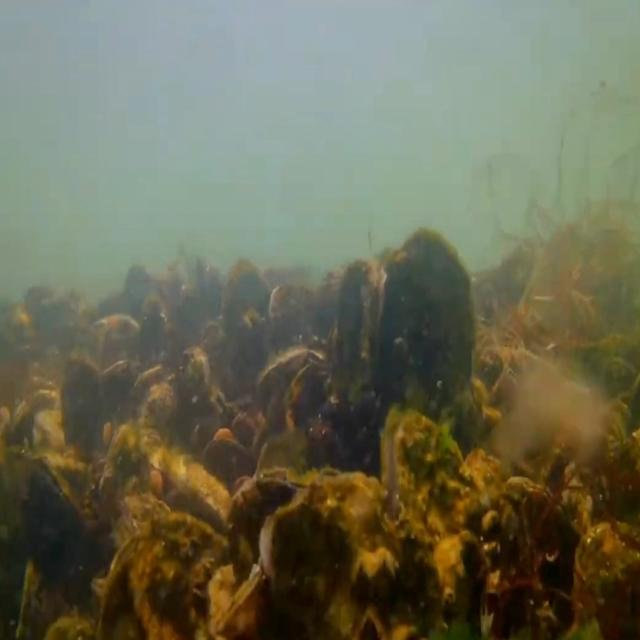Oyster-Closed: (225, 465, 340, 640), (0, 446, 86, 640), (482, 474, 582, 640), (95, 427, 149, 564), (213, 565, 265, 640)
Oyster-Indeterminate: (260, 467, 394, 640), (381, 229, 474, 451), (97, 511, 234, 640), (327, 257, 387, 432), (62, 350, 110, 466), (174, 346, 213, 454), (176, 452, 231, 523), (2, 396, 33, 448)
Oyster-Open: (379, 406, 490, 640), (253, 348, 326, 440), (125, 363, 176, 428)
